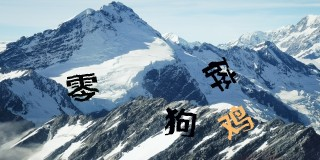狗: (164, 107, 197, 138)
碎: (203, 57, 237, 91)
零: (65, 72, 99, 102)
鸡: (218, 104, 255, 140)
